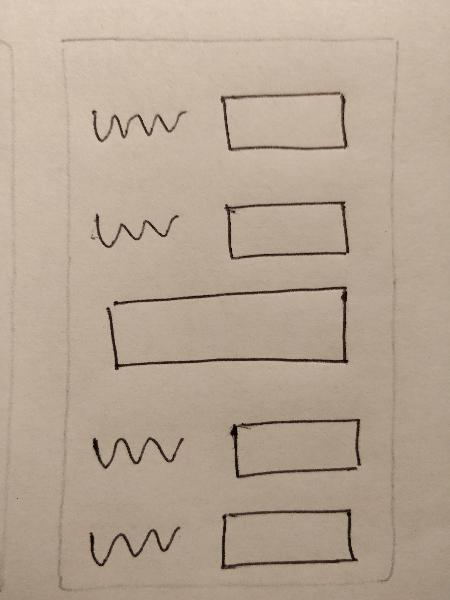text: (84, 416, 187, 487), (76, 514, 187, 576), (84, 195, 189, 260), (82, 98, 191, 148)
text_input: (94, 280, 367, 387), (206, 81, 365, 161), (216, 503, 367, 580), (218, 410, 371, 484), (212, 191, 358, 264)
